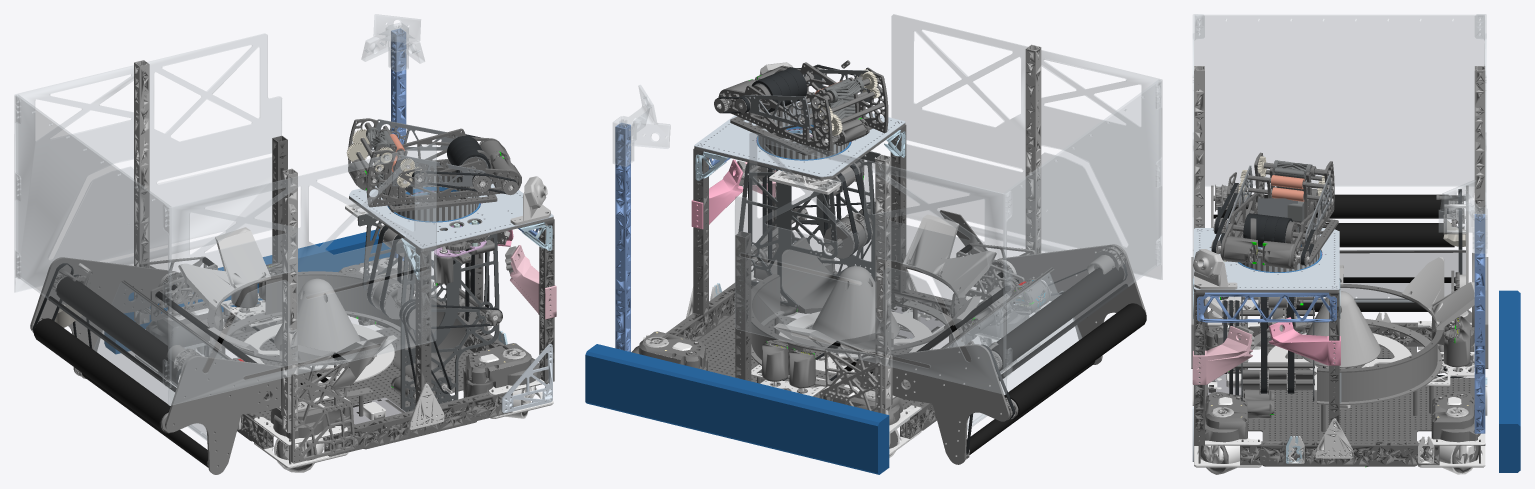
Rendered from aimbot-3256.glb.
The picture shows the model from 3 angles, left to right: view 1: azimuth 30°, elevation 25°; view 2: azimuth 150°, elevation 25°; view 3: azimuth 270°, elevation 25°; orthographic projection. The views are drawn at different scales.
Parts seen in each view (by area): view 1: hopper-ext, frame, intake, turret, rotor, hood, flywheel; view 2: hopper-ext, frame, intake, turret, rotor, hood, flywheel; view 3: frame, hopper-ext, intake, hood, rotor, turret, flywheel.
Boxes of the visible parts, x1,y1,x2,y2 form: hopper-ext: (14, 33, 436, 405); frame: (104, 14, 556, 472); intake: (30, 257, 318, 474); turret: (348, 118, 550, 230); rotor: (244, 275, 410, 386); hood: (346, 119, 521, 196); flywheel: (447, 135, 490, 180); hopper-ext: (735, 14, 1162, 394); frame: (585, 44, 1041, 474); intake: (854, 244, 1146, 464); turret: (718, 62, 888, 170); rotor: (751, 266, 932, 389); hood: (714, 60, 884, 140); flywheel: (751, 67, 807, 112); frame: (1191, 66, 1520, 474); hopper-ext: (1192, 14, 1486, 323); intake: (1211, 184, 1468, 311); hood: (1211, 156, 1333, 268); rotor: (1267, 291, 1463, 401); turret: (1193, 152, 1338, 289); flywheel: (1243, 213, 1297, 247).
Size of the model in its own units: 1.02 by 0.8721 by 0.7747.
